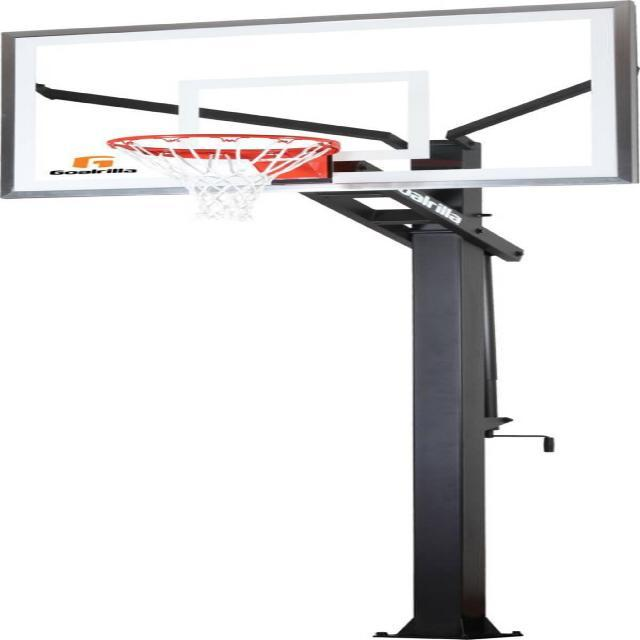hoop: (107, 133, 340, 220)
